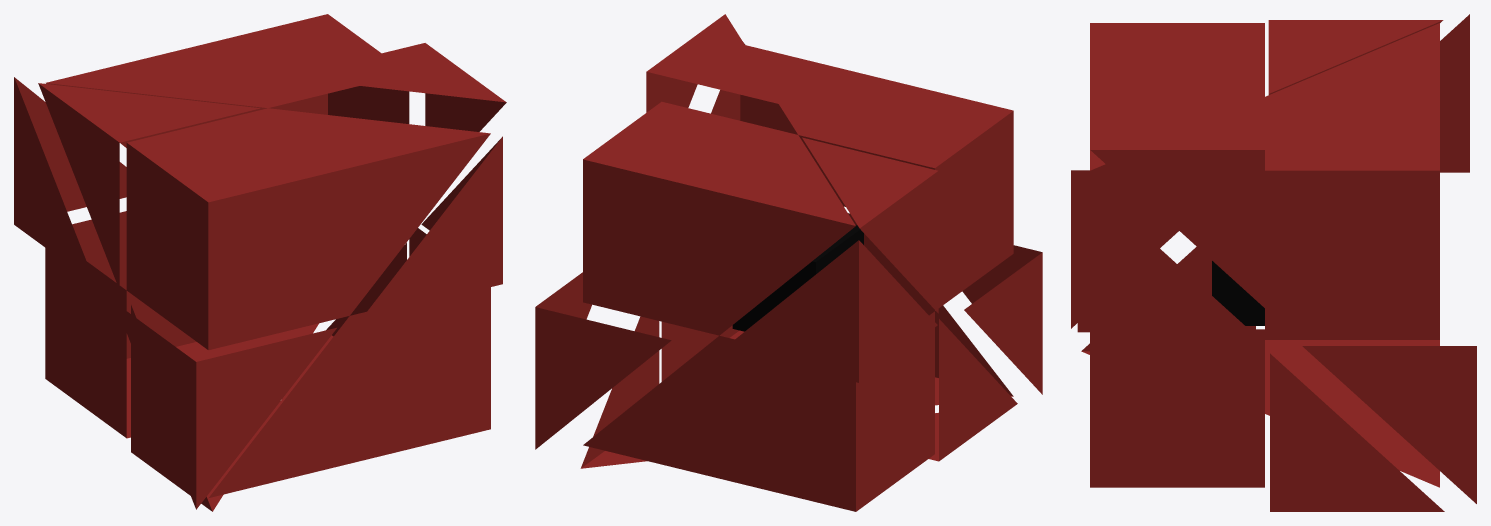
The model's file is brazo-cuboPlayer.glb.
The picture shows the model from 3 angles, left to right: view 1: azimuth 30°, elevation 25°; view 2: azimuth 150°, elevation 25°; view 3: azimuth 270°, elevation 25°; orthographic projection. The views are drawn at different scales.
Visible parts, largest first — view 1: Cube; view 2: Cube; view 3: Cube.
Boxes of the visible parts, x1=… form: Cube: x1=14, y1=14, x2=506, y2=511; Cube: x1=535, y1=14, x2=1042, y2=511; Cube: x1=1071, y1=14, x2=1476, y2=511.
Size of the model in its own units: 2.38 by 2.34 by 2.32.
